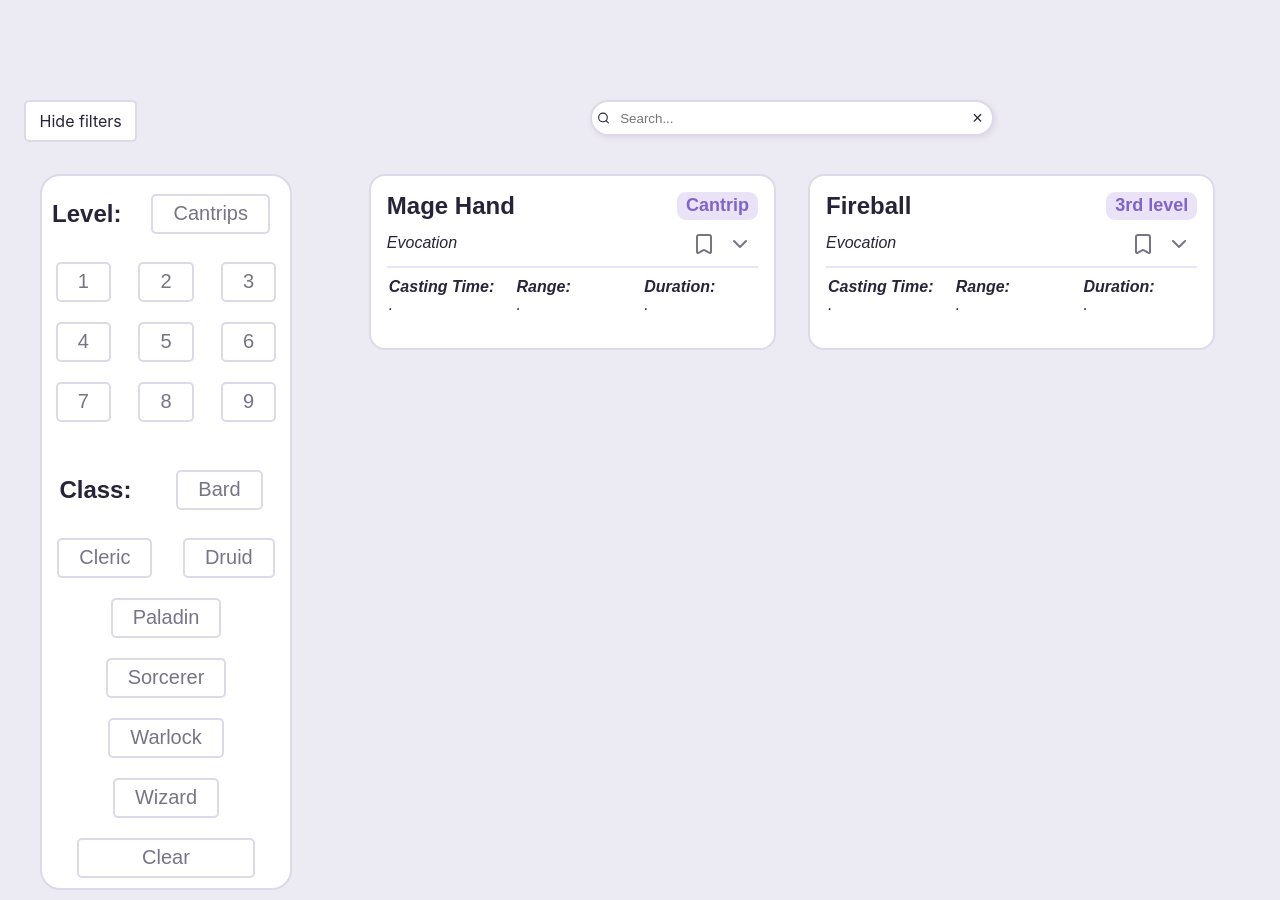
Test case: filters spell summaries by level without changing the source list
Expected: the heading "Fireball" is shown, [826,192,911,220]
Click the button "3": (249, 282) [221,262,276,302]
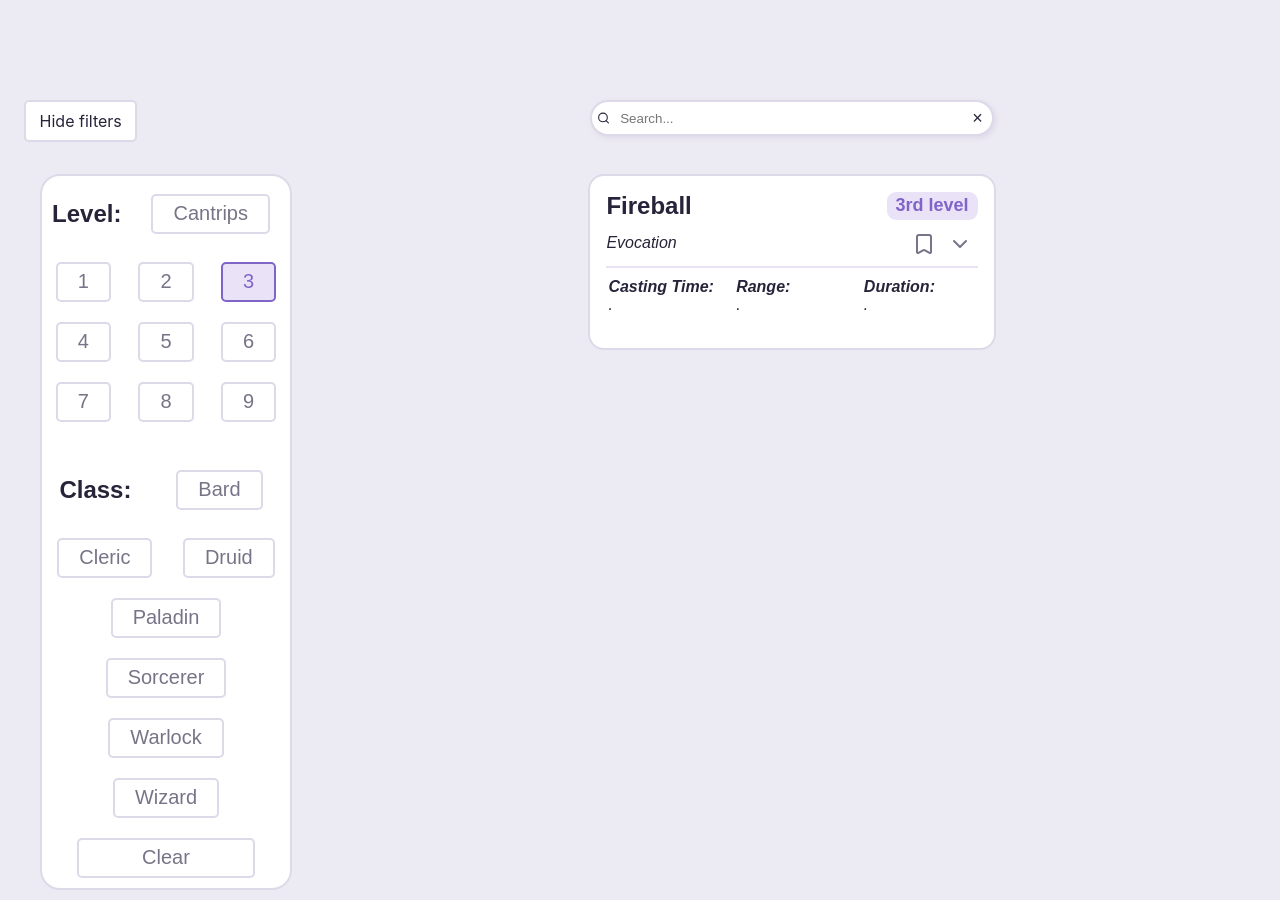
Expected: the heading "Fireball" is shown, [606,192,692,220]
Now the heading "Mage Hand" is gone
